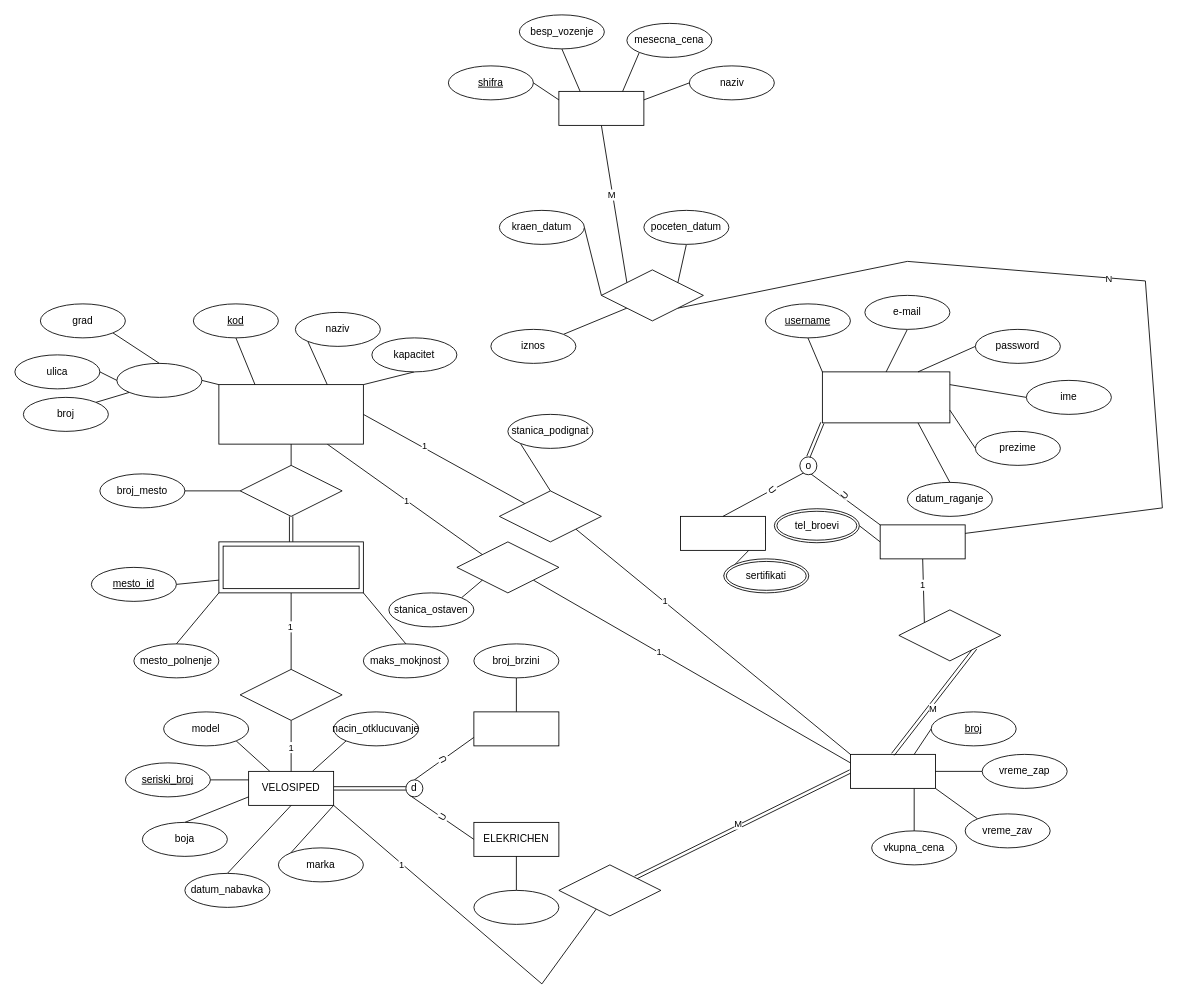
The diagram is 1178 pixels wide and 1000 high, and some of its shapes have lost their labels. The shapes that lost their labels are listed below. From the top down, each one's centre as x and y in pixels, then its label:
[601,108]: PAKET
[159,380]: adresa
[886,397]: KORISNICKA_SMETKA
[290,414]: VELOSIPEDSKA_STANICA
[722,533]: SERVISER
[922,541]: VOZACH
[290,567]: MESTO_PARKIRANJE
[516,728]: OBICHEN
[892,771]: IZNAJMUVANJE
[516,907]: kapacitet_baterija
[609,890]: Relationship
